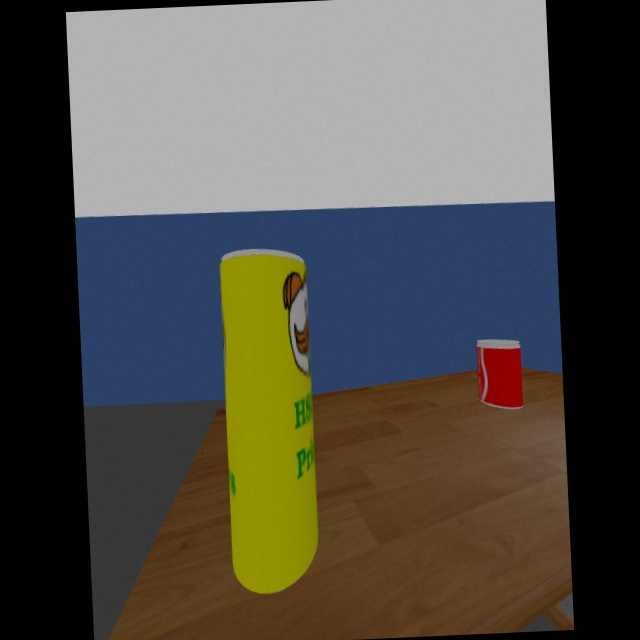chipsdose_gelb: (220, 248, 320, 596)
